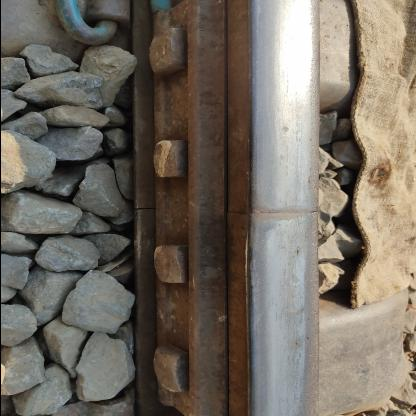Non Defective 1: (36, 0, 167, 54)
Non Defective 3: (144, 0, 246, 415)
